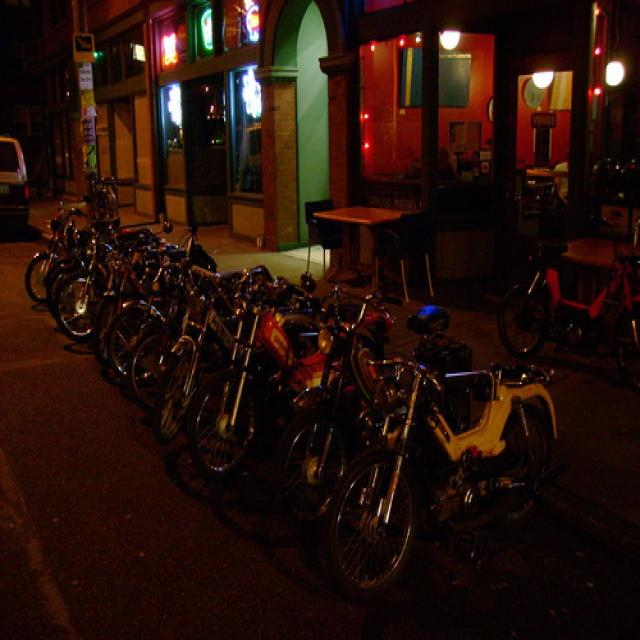Motorbike: (25, 205, 564, 575)
